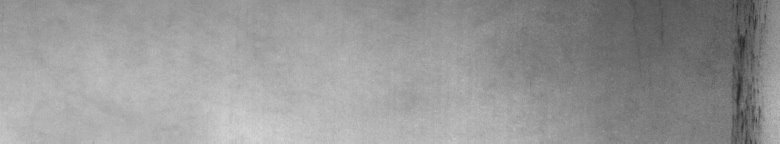ka: (724, 4, 771, 136)
